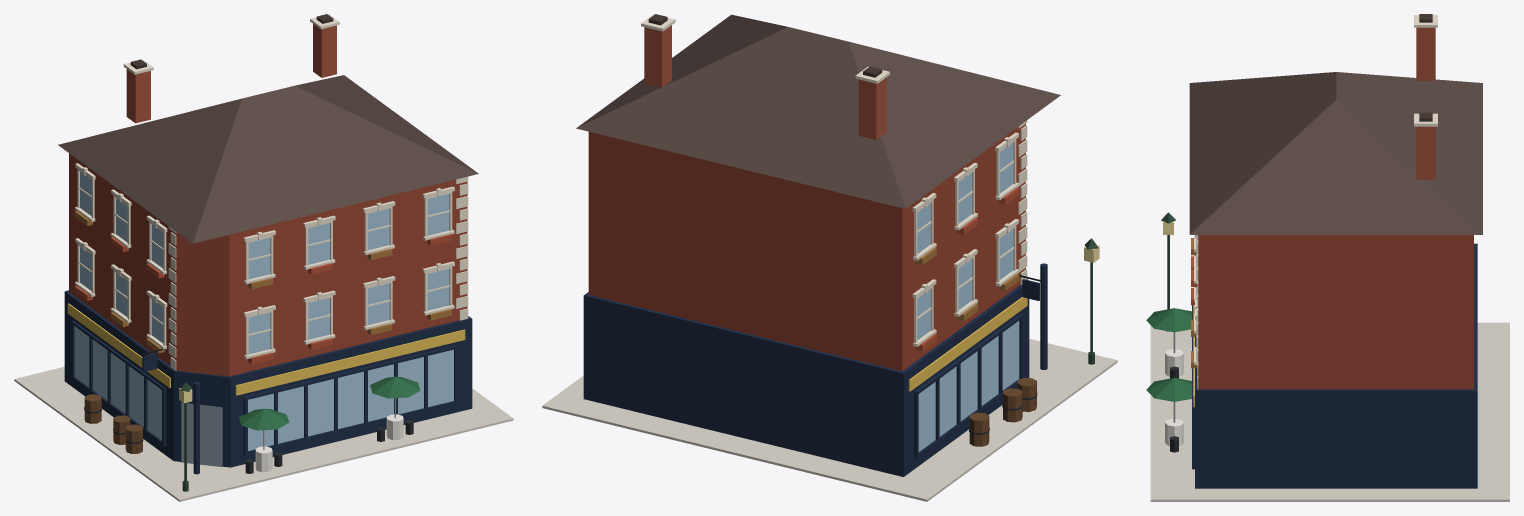
Rendered from Dukkan_cadde_pub_Hafif.fbx.
3 renders of one model, left to right at view 1: azimuth 30°, elevation 25°; view 2: azimuth 150°, elevation 25°; view 3: azimuth 270°, elevation 25°, orthographic. The views are drawn at different scales.
Visible parts, largest first — view 1: Dukkan_cadde_pub_Hafif; view 2: Dukkan_cadde_pub_Hafif; view 3: Dukkan_cadde_pub_Hafif.
Part boxes in pixels (x1,y1,x2,y2): Dukkan_cadde_pub_Hafif: (14, 14, 513, 501); Dukkan_cadde_pub_Hafif: (542, 14, 1117, 501); Dukkan_cadde_pub_Hafif: (1146, 14, 1509, 501).
Size of the model in its own units: 14 by 13.03 by 12.15.
